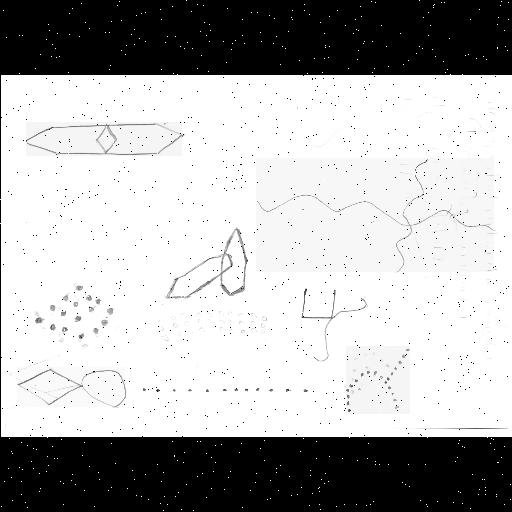shape-1: (17, 367, 125, 407)
shape-2: (140, 385, 308, 397)
shape-3: (154, 310, 266, 340)
shape-4: (31, 286, 113, 340)
shape-5: (301, 286, 367, 362)
shape-6: (346, 346, 410, 414)
shape-7: (256, 158, 494, 272)
shape-8: (164, 226, 248, 300)
shape-9: (26, 122, 182, 156)
